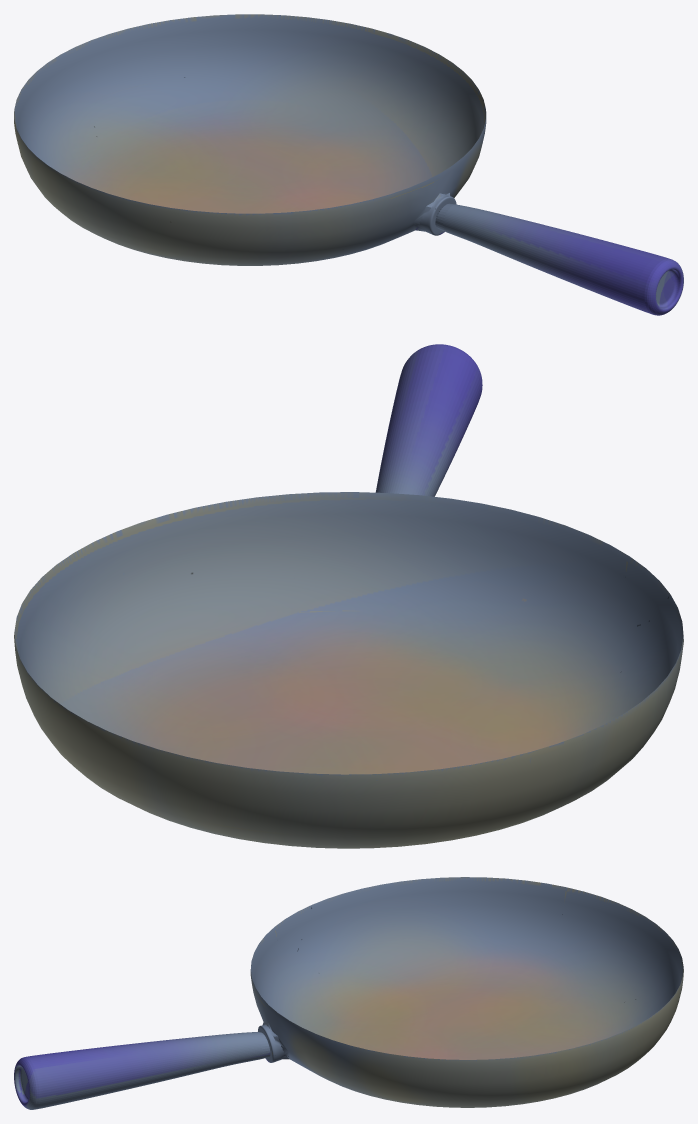
Rendered from frying-pan.fbx.
3 views of the same model, one above another, from view 1: azimuth 30°, elevation 25°; view 2: azimuth 150°, elevation 25°; view 3: azimuth 270°, elevation 25° (orthographic). The views are drawn at different scales.
Visible parts, largest first — view 1: frying-pan; view 2: frying-pan; view 3: frying-pan.
Boxes of the visible parts, x1,y1,x2,y2 form: frying-pan: (14,14,683,315); frying-pan: (14,344,683,848); frying-pan: (14,877,683,1109).
Bounding box in the file's own units: 160 × 30.89 × 247.
